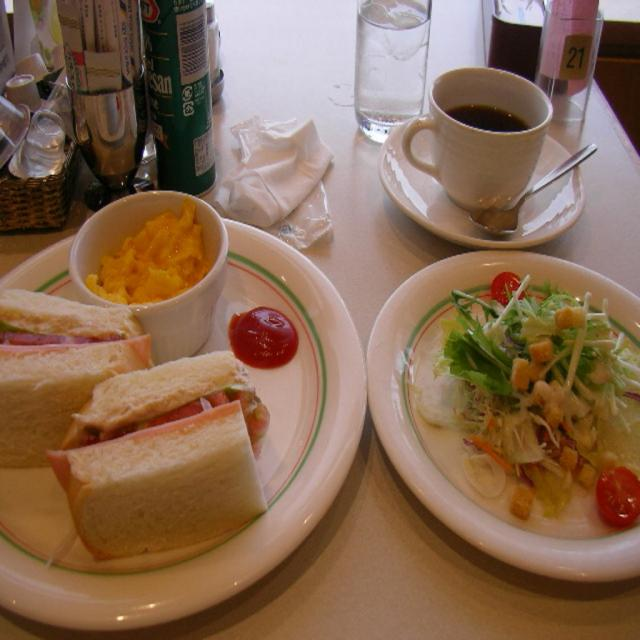Coffee: (409, 68, 561, 204)
Tea: (445, 104, 529, 131)
